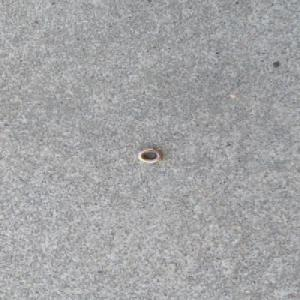Nut: (137, 147, 164, 163)
